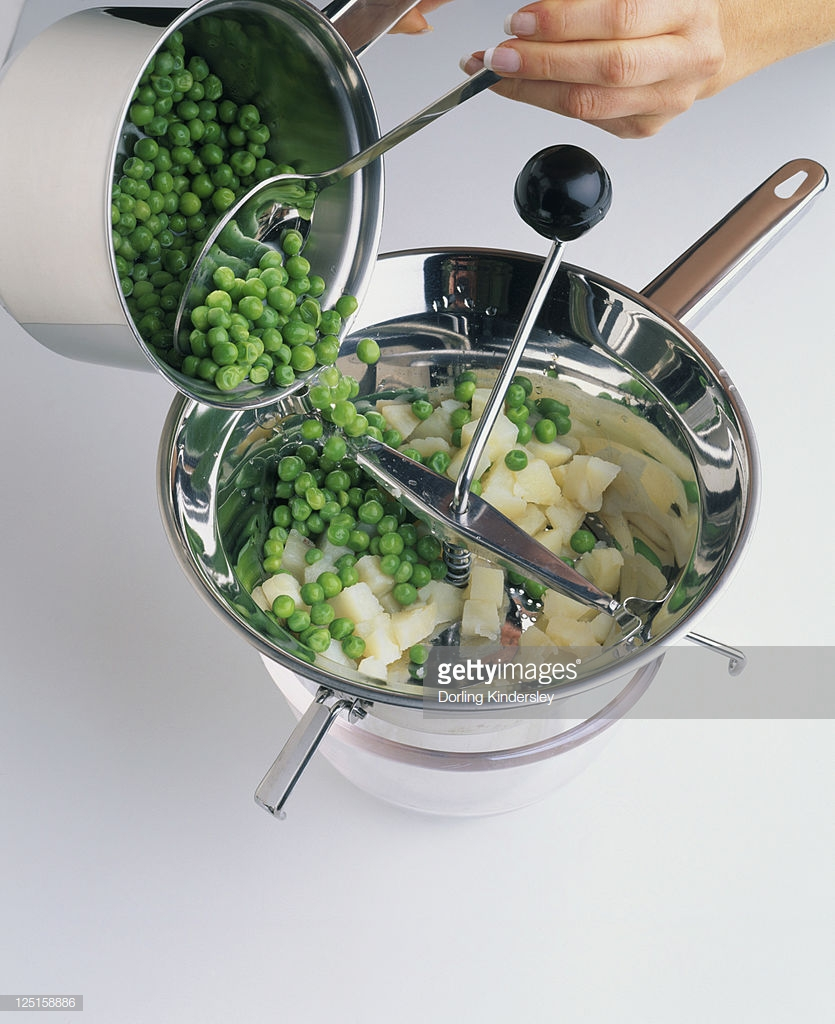boiled peas: (215, 262, 310, 367), (163, 90, 249, 164), (280, 471, 351, 537), (270, 603, 317, 635)
